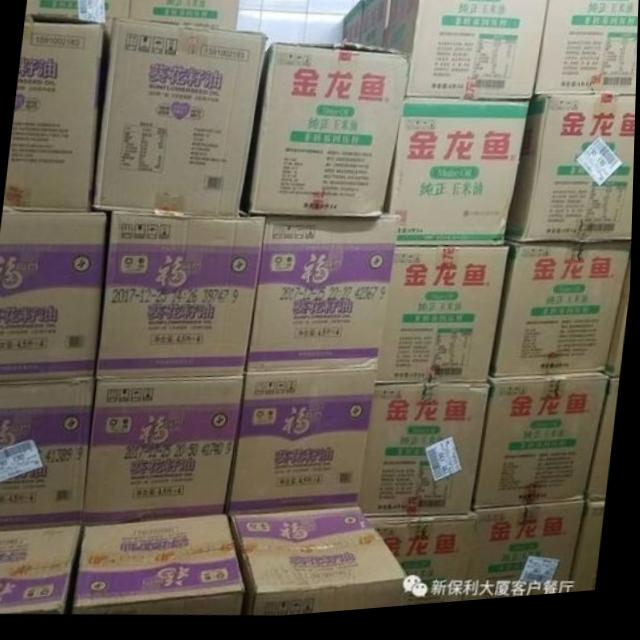box: (94, 19, 266, 222), (241, 46, 407, 224), (96, 215, 268, 380), (247, 220, 398, 379), (86, 377, 247, 523), (227, 376, 378, 517), (391, 105, 530, 253), (231, 511, 413, 619), (507, 103, 637, 252), (4, 20, 105, 211), (495, 250, 633, 389), (0, 209, 110, 380), (477, 380, 614, 516), (376, 250, 510, 388), (384, 0, 551, 106), (363, 388, 495, 522), (75, 516, 250, 617), (0, 380, 95, 530), (466, 509, 590, 609), (534, 0, 639, 104), (374, 520, 476, 613), (0, 521, 86, 613), (26, 0, 130, 41), (587, 385, 621, 510), (605, 255, 633, 388), (570, 506, 607, 603), (131, 0, 240, 32), (358, 0, 391, 53), (341, 4, 363, 54)
